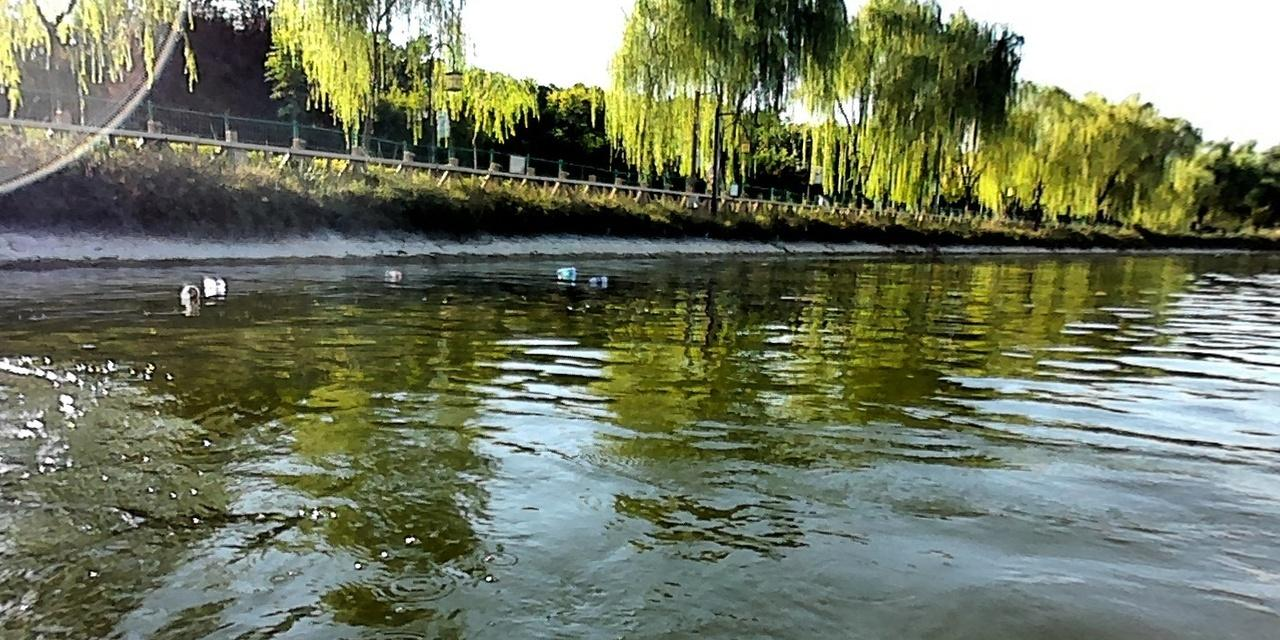bottle: (178, 282, 202, 300), (199, 274, 225, 290), (583, 272, 609, 284), (552, 265, 579, 275), (383, 266, 404, 278)
